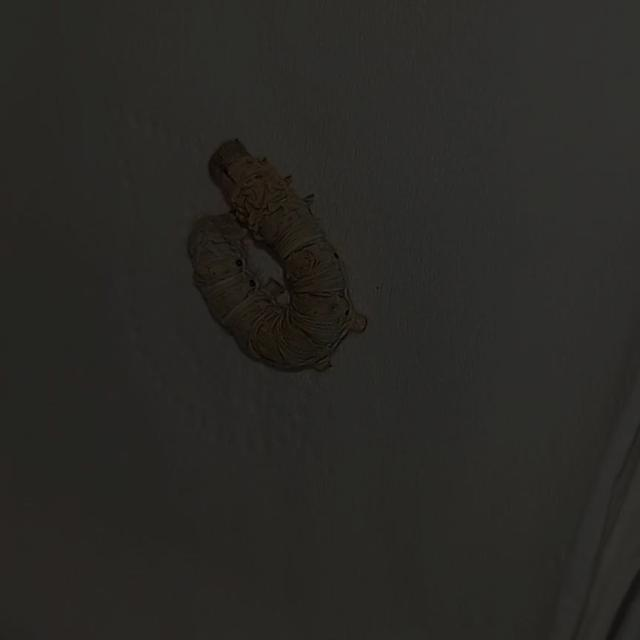Healthy: (181, 132, 384, 379)
